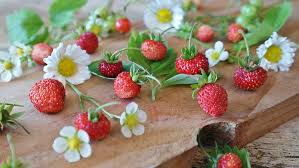ripe: (27, 76, 67, 116), (74, 109, 111, 143), (232, 63, 272, 92), (174, 49, 211, 77), (98, 56, 124, 77), (214, 148, 242, 166), (78, 31, 98, 54), (114, 18, 131, 36)
unripe: (195, 81, 231, 120), (110, 67, 142, 100), (29, 43, 57, 66), (139, 38, 168, 60), (226, 21, 248, 44), (196, 24, 214, 43)
